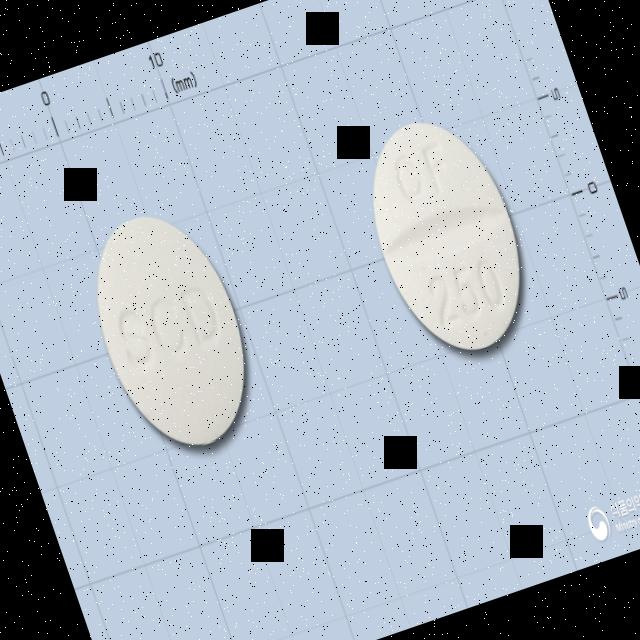Cf: (61, 189, 279, 471), (340, 96, 552, 374)
